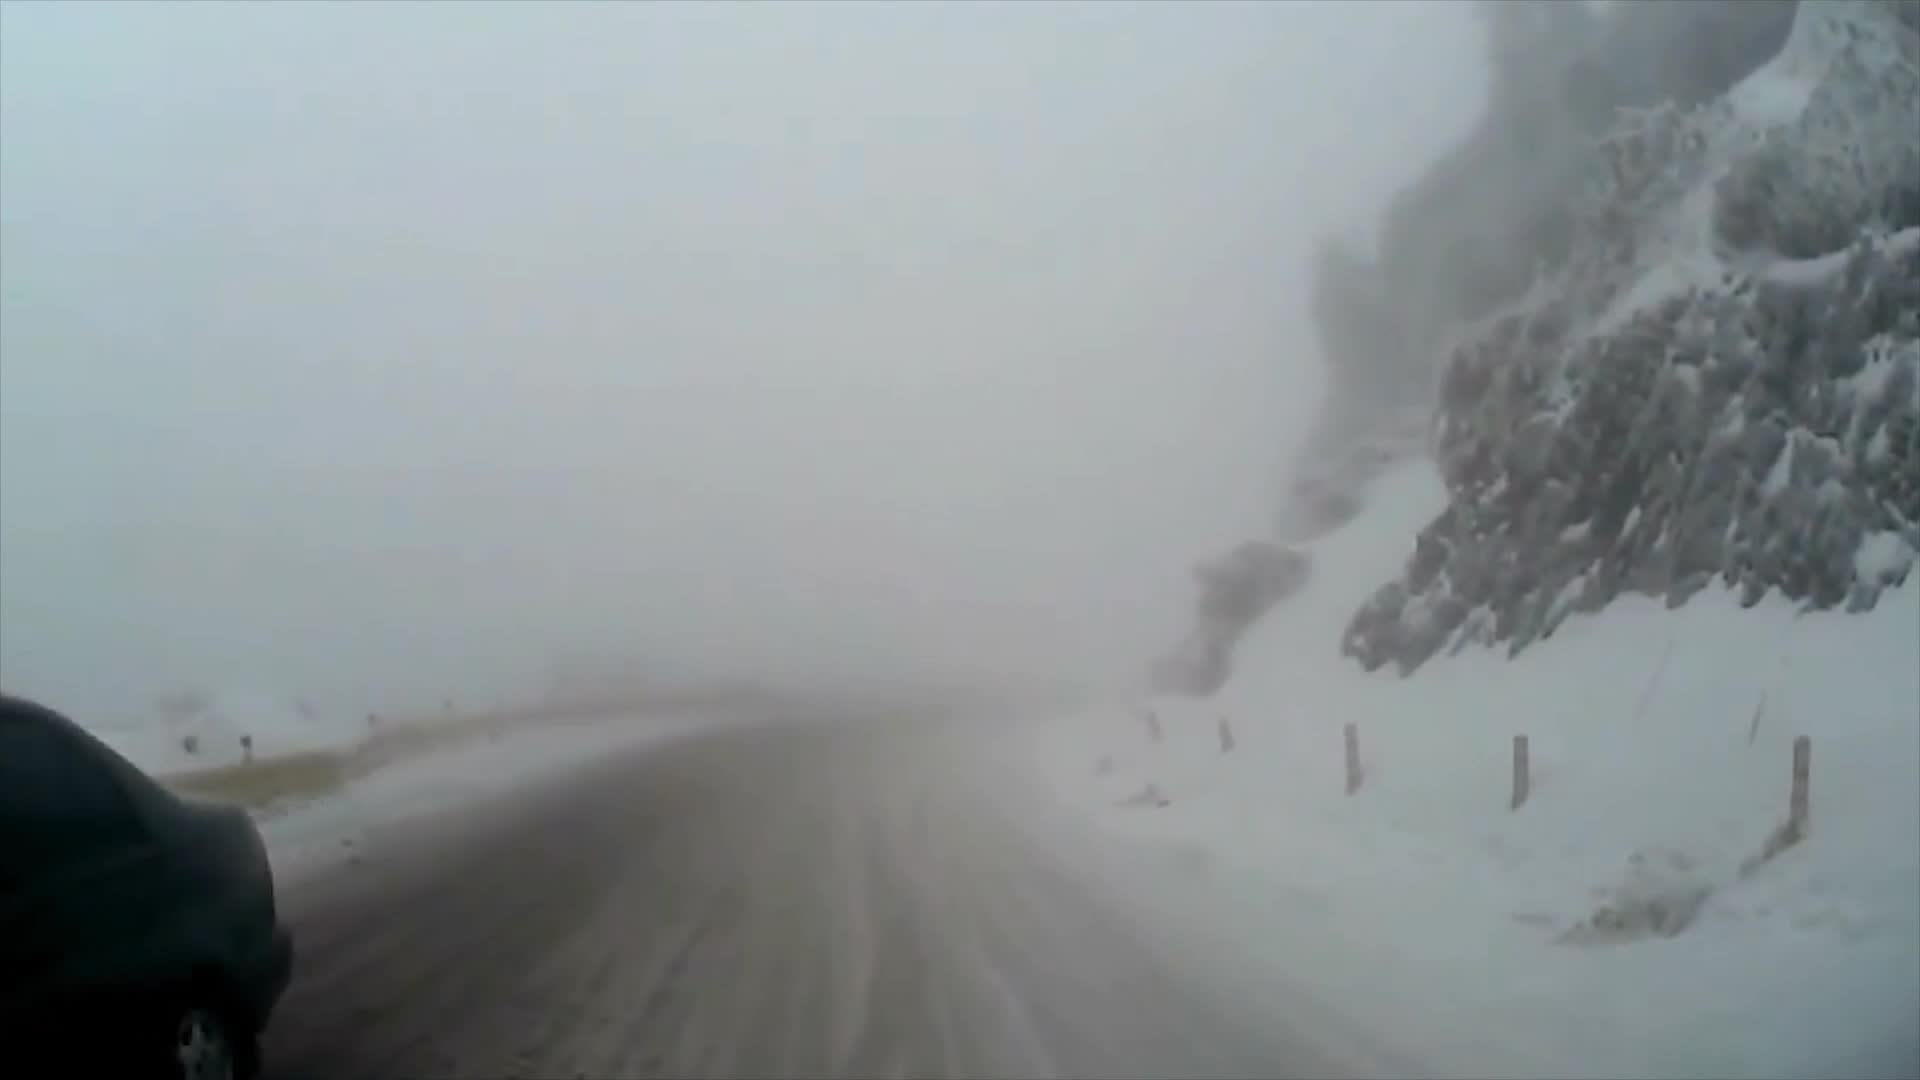vehicle: (0, 694, 297, 1079)
